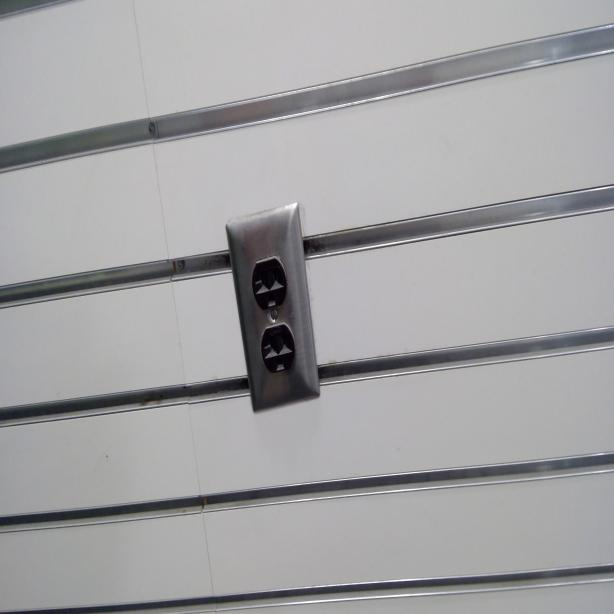typeb: (249, 259, 284, 311), (262, 327, 294, 373)
